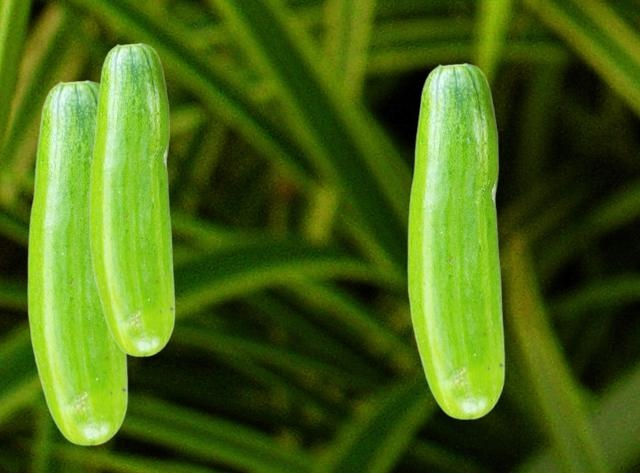cucumber: (27, 79, 127, 445), (407, 62, 504, 419), (89, 42, 174, 356)
